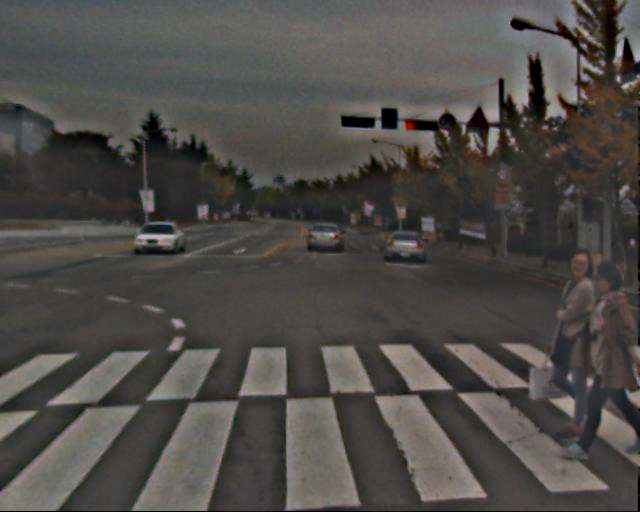person: (543, 244, 614, 450), (576, 250, 640, 467)
